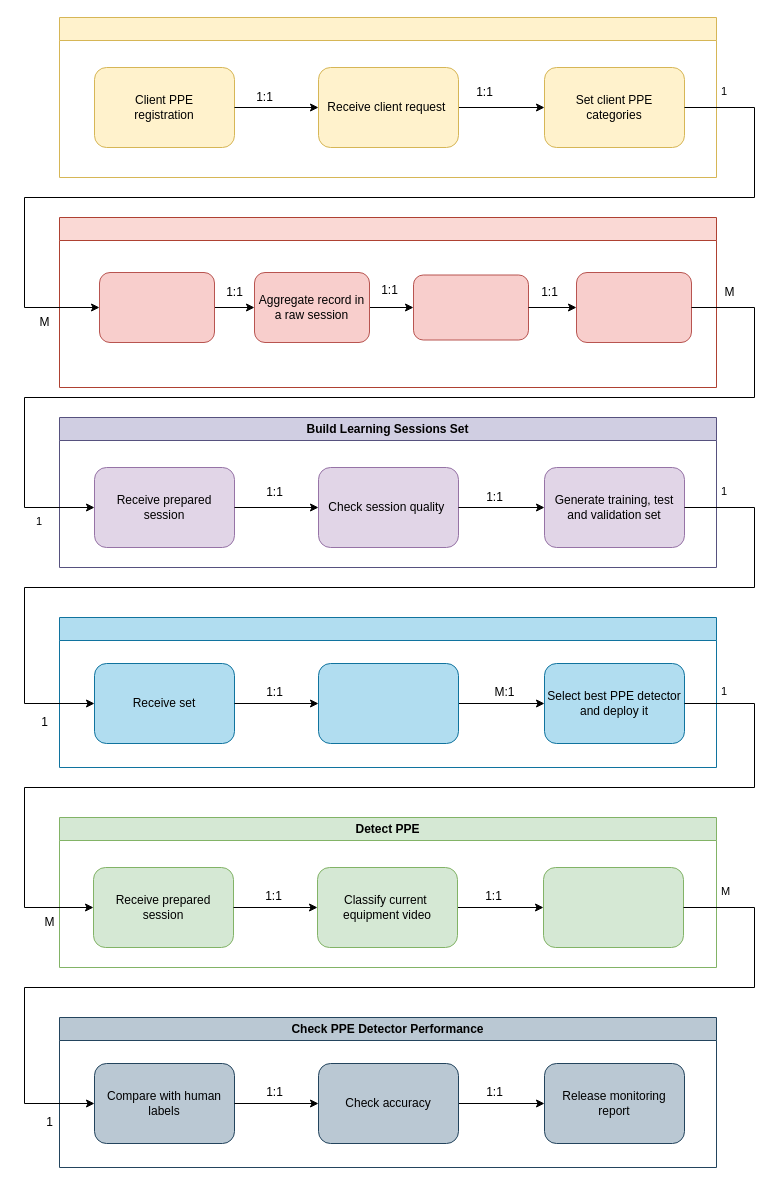
Image size: 780x1185. Some labels were removed from this diagram. The shapes that lost their labels are listed below. From the top down, each one's box as (x1, y1, x2, y2) in pixels, then its label:
(58, 16, 716, 178): Configure PPE Detection Service
(98, 272, 214, 342): Receive record
(58, 216, 716, 388): Prepare Work Activity Session
(412, 274, 528, 340): Record quality evaluation
(576, 272, 692, 342): Extract features
(58, 616, 716, 768): Develop PPE Detector
(318, 662, 458, 744): PPE detector training
(542, 866, 684, 948): Check equipment detected
